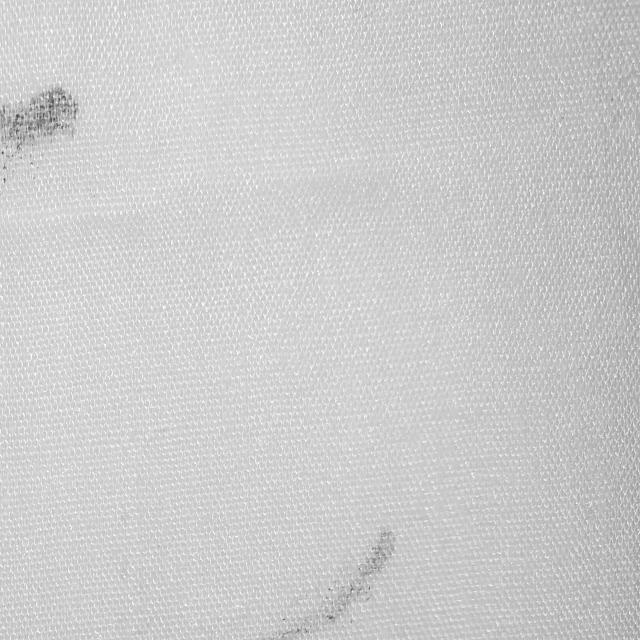Stain: (269, 529, 396, 640), (0, 85, 77, 193)
